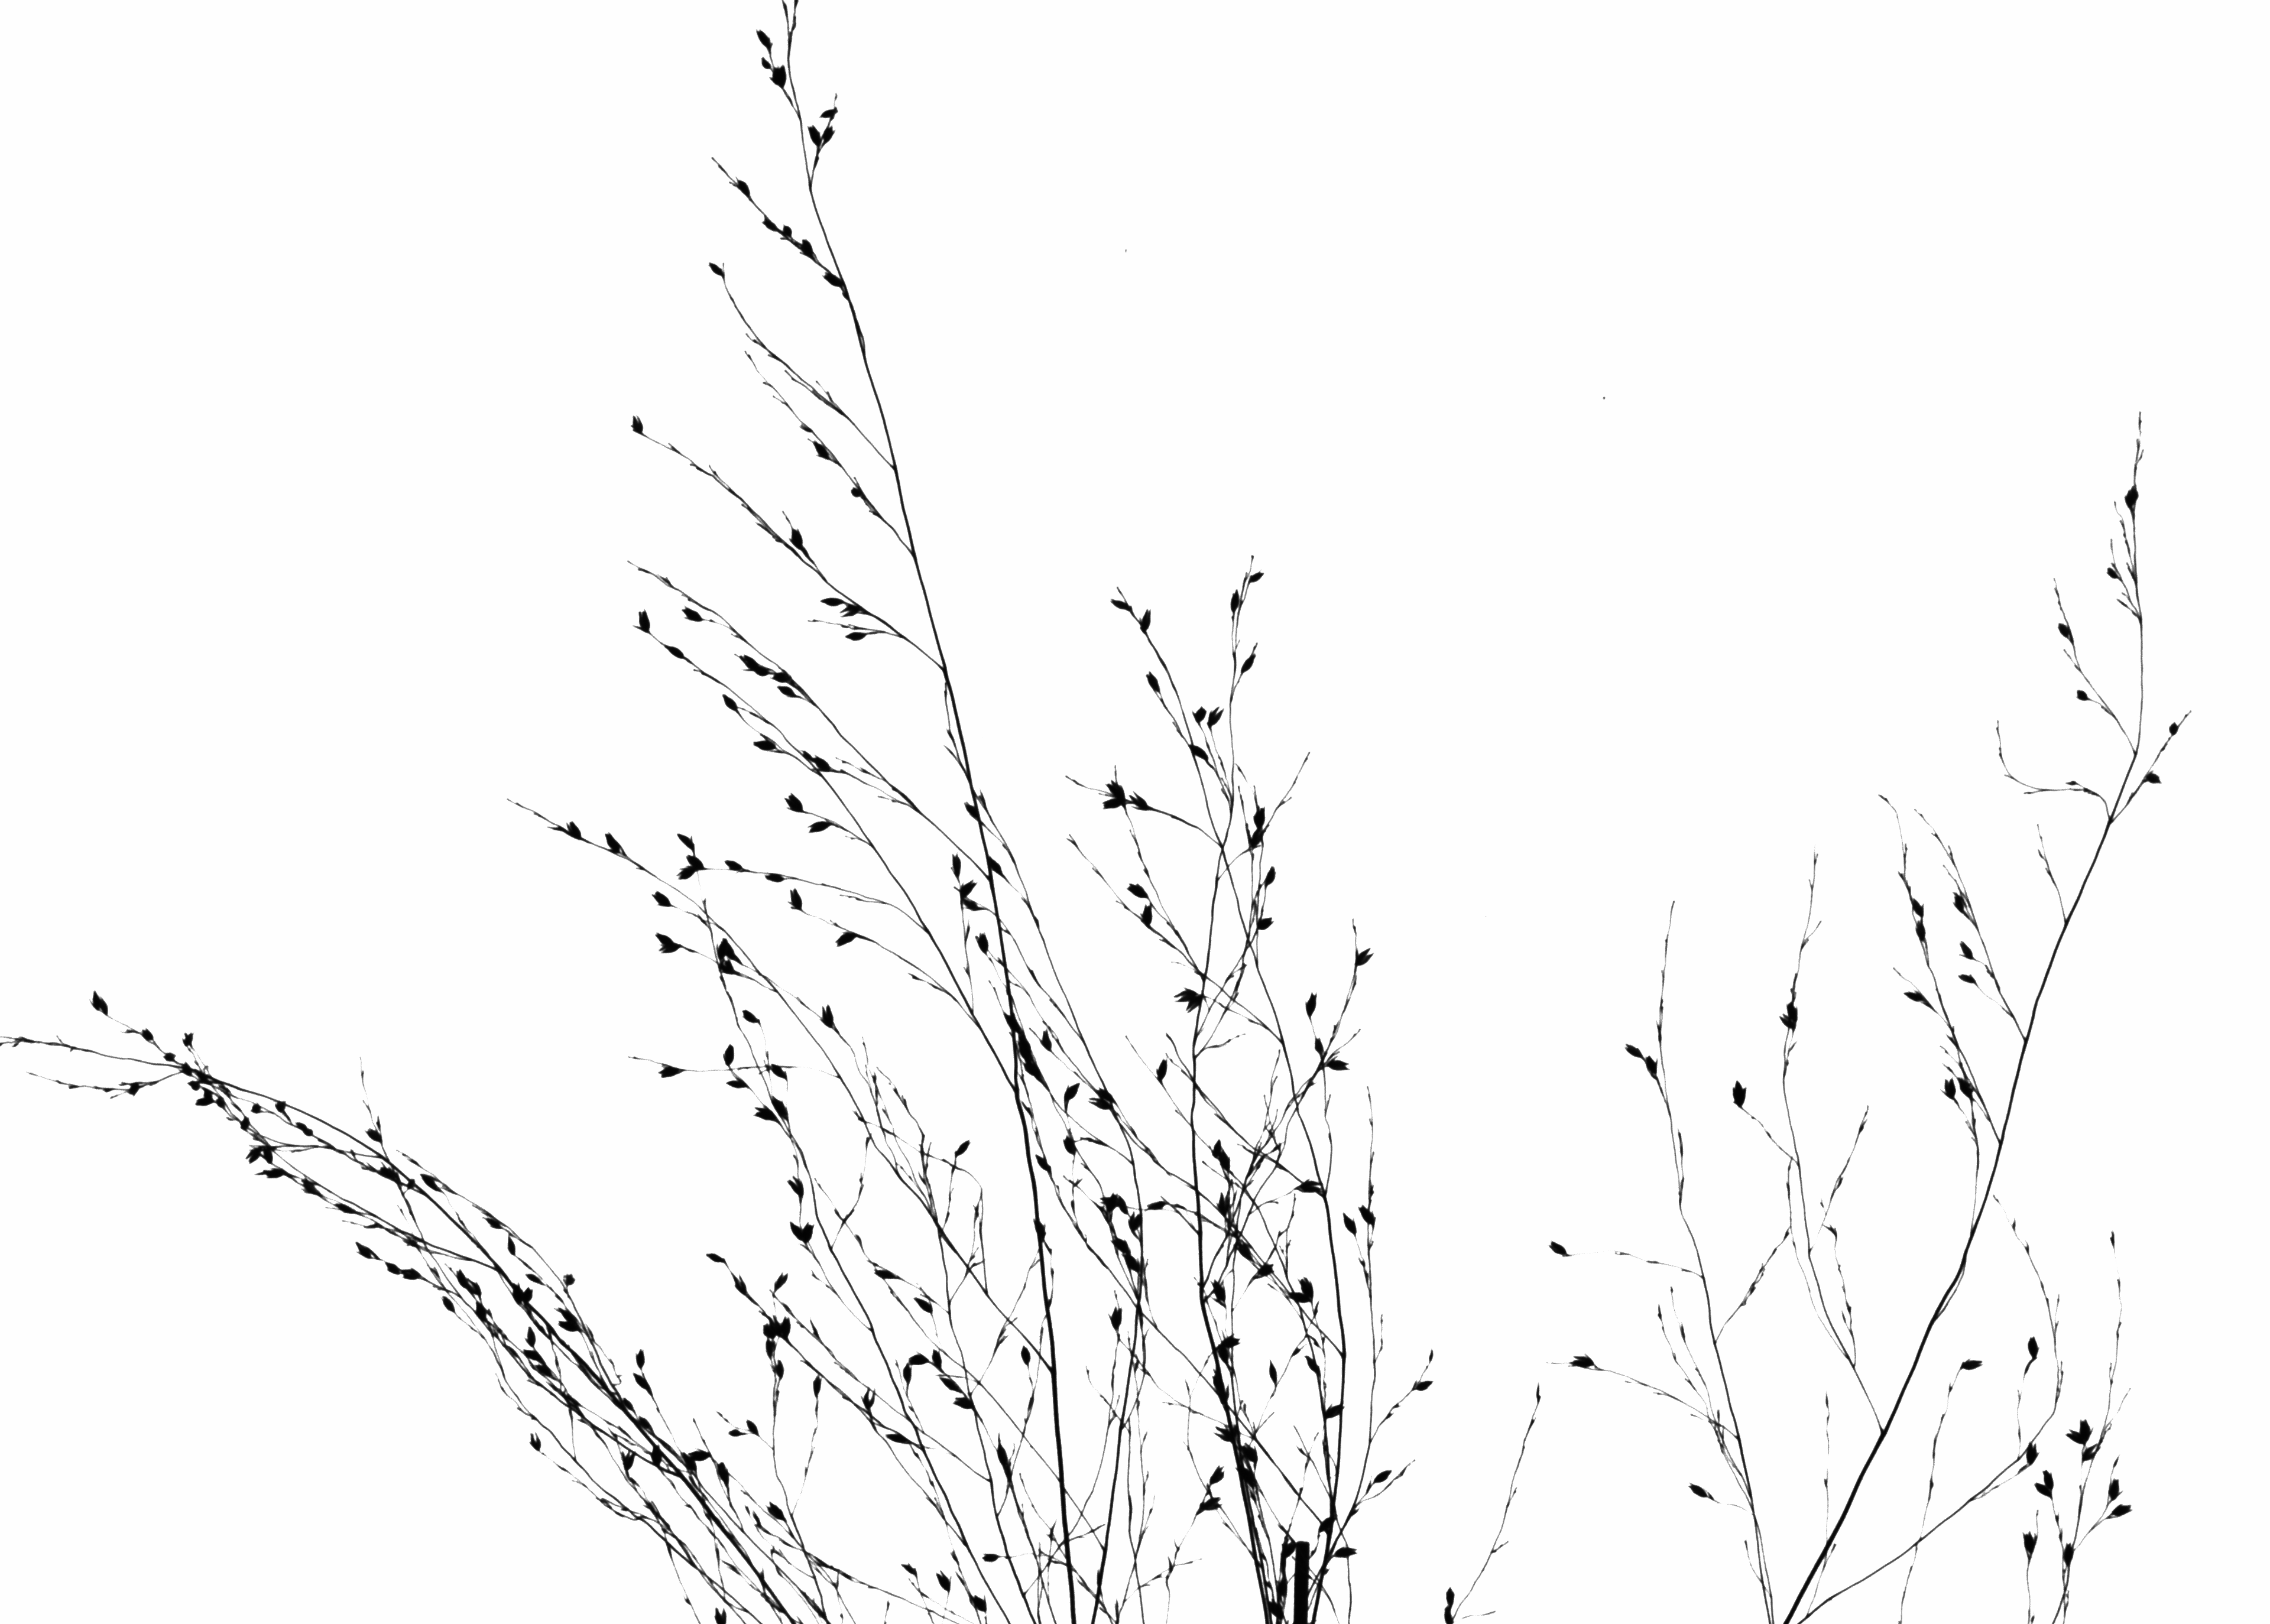seed: (993, 1005, 1029, 1037), (2048, 613, 2080, 649), (1259, 1352, 1284, 1388), (830, 926, 862, 954), (1210, 1135, 1234, 1171), (1185, 738, 1215, 765), (1206, 1276, 1231, 1308), (2124, 475, 2143, 513), (782, 1218, 809, 1246), (376, 1160, 406, 1185), (733, 649, 763, 673), (749, 1102, 781, 1125), (934, 1371, 965, 1394), (1108, 1301, 1127, 1338), (1291, 1178, 1328, 1197), (297, 1174, 324, 1200), (556, 1301, 582, 1327), (663, 640, 689, 666), (751, 26, 777, 53), (770, 1095, 795, 1123), (647, 888, 675, 912), (807, 814, 835, 838), (717, 689, 742, 717), (807, 436, 832, 464), (784, 1171, 809, 1199), (909, 1290, 937, 1315), (930, 1568, 955, 1596), (1059, 1077, 1083, 1106), (1322, 1396, 1347, 1424), (1544, 1234, 1572, 1258), (2096, 559, 2124, 584), (601, 828, 624, 858), (677, 603, 707, 626), (797, 234, 819, 264), (1029, 1214, 1051, 1244), (1684, 1478, 1714, 1501), (1957, 1072, 1980, 1102), (1169, 984, 1208, 1002), (1895, 988, 1931, 1007), (971, 930, 992, 961), (631, 605, 652, 636), (1102, 592, 1134, 613), (856, 1383, 881, 1410), (1234, 1466, 1261, 1490), (1301, 988, 1321, 1021), (819, 269, 848, 292), (1106, 773, 1129, 801), (1129, 786, 1152, 814), (1143, 668, 1166, 696), (1301, 1350, 1324, 1378), (1623, 1037, 1646, 1065), (1948, 889, 1971, 917), (331, 1197, 360, 1218), (786, 884, 807, 914), (946, 849, 967, 879), (986, 849, 1008, 879), (1238, 649, 1259, 678), (1261, 861, 1282, 891), (2020, 1526, 2041, 1555), (1957, 1355, 1987, 1376), (1563, 1352, 1598, 1369), (362, 1121, 387, 1146), (418, 1169, 443, 1193), (781, 789, 805, 814), (677, 1450, 700, 1476), (958, 891, 981, 917), (712, 1457, 733, 1485), (767, 1494, 788, 1522), (1250, 1260, 1278, 1281), (1356, 1200, 1377, 1229), (1196, 1494, 1224, 1515), (1206, 1457, 1227, 1485), (1954, 968, 1982, 990), (2059, 1536, 2077, 1570), (818, 1000, 837, 1030), (721, 856, 751, 875), (768, 664, 798, 684), (1180, 995, 1210, 1014), (1213, 1188, 1233, 1218), (1298, 1271, 1317, 1301), (2077, 1413, 2096, 1443), (1783, 995, 1802, 1025), (294, 1116, 316, 1141), (951, 1137, 976, 1160), (967, 1589, 990, 1613), (1247, 566, 1271, 589), (1254, 912, 1278, 935), (1354, 946, 1379, 968), (1234, 1237, 1259, 1260), (257, 1164, 292, 1179), (717, 933, 738, 960), (702, 257, 728, 278), (772, 1267, 793, 1294), (1110, 1186, 1131, 1213), (1138, 605, 1155, 636), (1234, 1443, 1261, 1464), (1370, 1464, 1396, 1485), (2029, 1478, 2055, 1499), (1774, 1009, 1795, 1035), (260, 1137, 280, 1165), (751, 735, 779, 754), (804, 121, 823, 149), (1125, 879, 1153, 898), (1217, 1334, 1245, 1353), (842, 629, 876, 645), (84, 984, 102, 1014), (652, 1063, 682, 1081), (881, 1427, 911, 1445), (2022, 1332, 2040, 1362), (765, 1060, 788, 1083), (962, 798, 985, 821), (1122, 1251, 1145, 1274), (1110, 1232, 1132, 1255), (2142, 766, 2165, 789), (1022, 1056, 1043, 1081), (471, 1301, 492, 1325), (533, 1360, 557, 1381), (637, 1413, 658, 1438), (740, 1004, 761, 1028), (958, 877, 979, 902), (731, 176, 753, 200), (1013, 1343, 1034, 1367), (1032, 1146, 1053, 1171), (1957, 937, 1978, 961), (564, 816, 584, 842), (758, 1315, 777, 1341), (1408, 1378, 1435, 1397), (1911, 919, 1931, 946), (1730, 1076, 1746, 1107), (478, 1213, 506, 1230), (686, 1443, 714, 1461), (777, 685, 805, 703), (1141, 900, 1155, 935), (1248, 824, 1266, 852), (1101, 794, 1129, 812), (1342, 1207, 1359, 1236), (2024, 1438, 2041, 1466), (353, 1239, 375, 1262), (629, 1371, 652, 1392), (673, 830, 696, 851), (782, 527, 804, 550), (779, 221, 800, 244), (1097, 1083, 1120, 1104), (2080, 1441, 2101, 1464), (1906, 893, 1927, 916), (559, 1318, 584, 1338), (520, 1323, 540, 1348), (1308, 1033, 1328, 1058), (1211, 1424, 1236, 1443), (804, 1218, 819, 1248), (717, 954, 735, 981), (654, 942, 680, 960), (629, 410, 647, 436), (772, 63, 789, 90), (1125, 1206, 1143, 1232), (1145, 1195, 1171, 1213), (1060, 1135, 1081, 1156), (1227, 584, 1241, 615), (1326, 1056, 1354, 1072), (1444, 1580, 1459, 1608), (1646, 1055, 1662, 1083), (2071, 684, 2092, 705), (744, 1415, 763, 1438), (812, 752, 835, 772), (1190, 703, 1210, 726), (2163, 715, 2182, 738), (526, 1429, 543, 1454), (816, 104, 840, 121), (510, 1274, 524, 1304), (723, 1076, 753, 1090), (840, 603, 867, 619), (819, 592, 846, 608), (703, 1248, 730, 1264), (932, 1345, 948, 1371), (1087, 1095, 1113, 1111), (1155, 1055, 1171, 1081), (781, 1309, 793, 1343), (246, 1142, 266, 1164), (440, 1292, 459, 1313), (1208, 705, 1227, 726), (273, 1095, 290, 1118), (684, 852, 707, 870), (846, 480, 863, 503), (2063, 1427, 2085, 1445), (723, 1039, 737, 1067), (190, 1095, 215, 1111), (98, 997, 114, 1021), (457, 1269, 473, 1294), (522, 1348, 547, 1364), (953, 1397, 978, 1413), (1039, 1026, 1055, 1051), (1333, 1545, 1357, 1561), (2110, 1504, 2135, 1520), (139, 1025, 156, 1046), (621, 1448, 638, 1469), (651, 1439, 665, 1466), (756, 214, 777, 232), (633, 1343, 647, 1369), (737, 1271, 751, 1297), (907, 1350, 928, 1367), (2106, 1475, 2121, 1501), (401, 1264, 424, 1280), (654, 930, 677, 946), (677, 866, 700, 882), (763, 868, 786, 884), (1254, 805, 1270, 828), (2040, 1466, 2055, 1489), (1941, 1076, 1957, 1098), (505, 1232, 519, 1257), (563, 1269, 580, 1288), (712, 1603, 730, 1622), (758, 56, 777, 74), (770, 1360, 789, 1378), (1317, 1512, 1335, 1531), (522, 1271, 543, 1287), (763, 1338, 779, 1359), (899, 1561, 920, 1577), (979, 1550, 1002, 1564), (812, 1369, 823, 1399), (162, 1046, 179, 1063), (183, 1026, 199, 1046), (387, 1257, 403, 1276), (821, 127, 837, 146), (619, 1396, 635, 1413), (186, 1079, 204, 1093), (248, 1097, 262, 1114), (524, 1285, 536, 1304), (179, 1060, 193, 1076), (728, 1425, 746, 1438), (2063, 777, 2080, 789)
